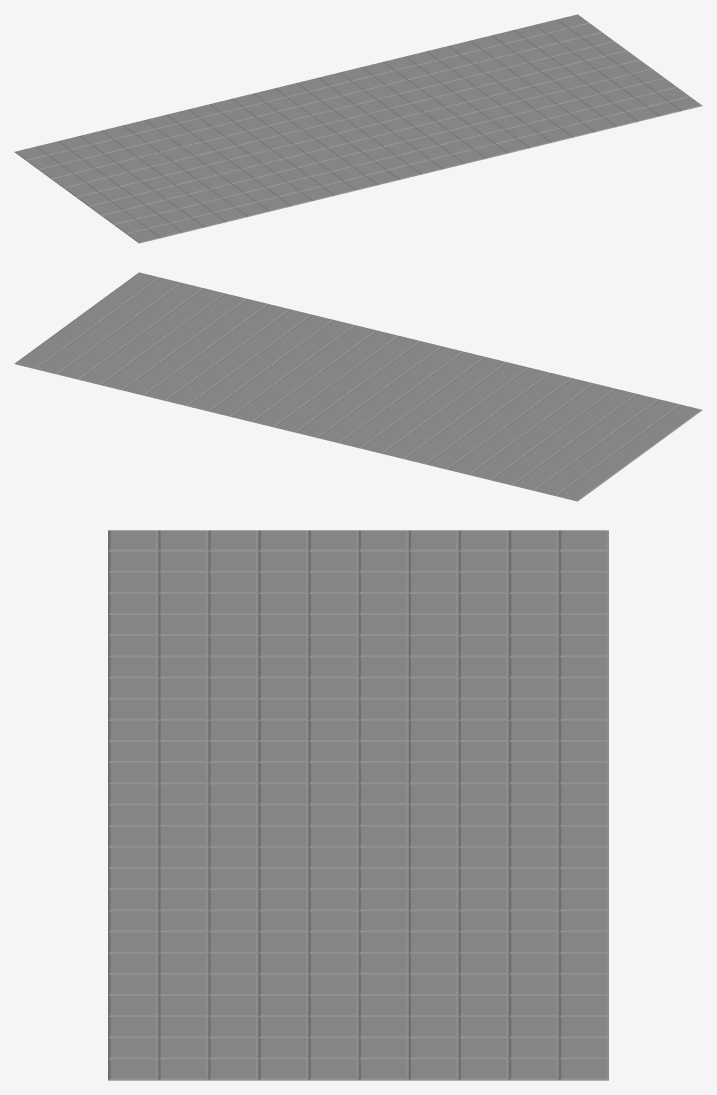
Rendered from Salle_1_Sol.fbx.
3 views of the same model, one above another, from view 1: azimuth 30°, elevation 25°; view 2: azimuth 150°, elevation 25°; view 3: azimuth 270°, elevation 25° (orthographic). The views are drawn at different scales.
Parts seen in each view (by area): view 1: Salle_1_Sol; view 2: Salle_1_Sol; view 3: Salle_1_Sol.
Boxes of the visible parts, x1,y1,x2,y2 form: Salle_1_Sol: (14, 14, 702, 243); Salle_1_Sol: (14, 272, 702, 501); Salle_1_Sol: (108, 530, 608, 1080).
Size of the model in its own units: 5200 by 4.88 by 2000.
Materials: 1 (1 with a texture image).
